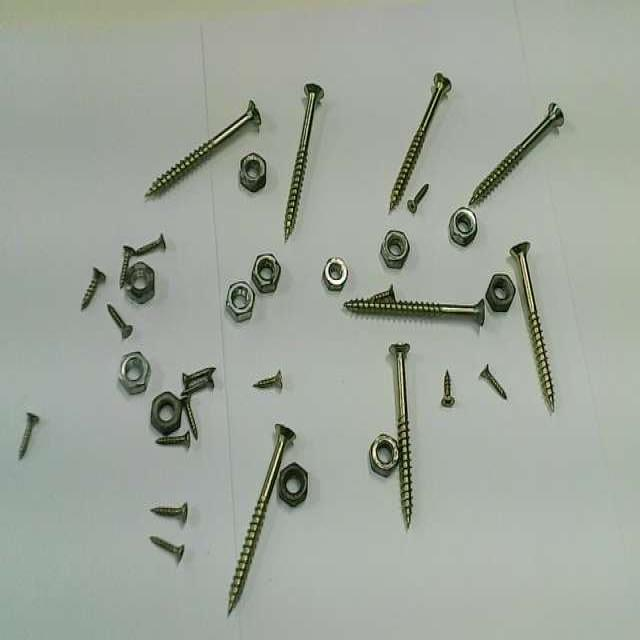Parafuso: (228, 424, 294, 611), (145, 100, 260, 195), (468, 103, 563, 205), (390, 74, 450, 210), (510, 242, 554, 411), (284, 84, 323, 241), (389, 343, 412, 527), (344, 299, 484, 325), (81, 267, 105, 309), (18, 412, 38, 458), (480, 364, 506, 399), (150, 536, 184, 562), (107, 304, 132, 338), (150, 503, 187, 523), (181, 394, 197, 439), (182, 376, 214, 398), (182, 367, 214, 389), (135, 234, 165, 255), (119, 246, 134, 287), (407, 184, 428, 213), (156, 432, 190, 449), (253, 371, 281, 389), (441, 371, 454, 406), (369, 286, 394, 301)
Porca: (150, 391, 181, 435), (369, 434, 398, 477), (120, 352, 149, 394), (279, 463, 307, 506), (125, 262, 154, 303), (252, 254, 280, 293), (381, 230, 409, 269), (226, 282, 253, 321), (449, 207, 476, 246), (486, 274, 514, 311), (239, 154, 266, 191), (323, 258, 347, 290)
